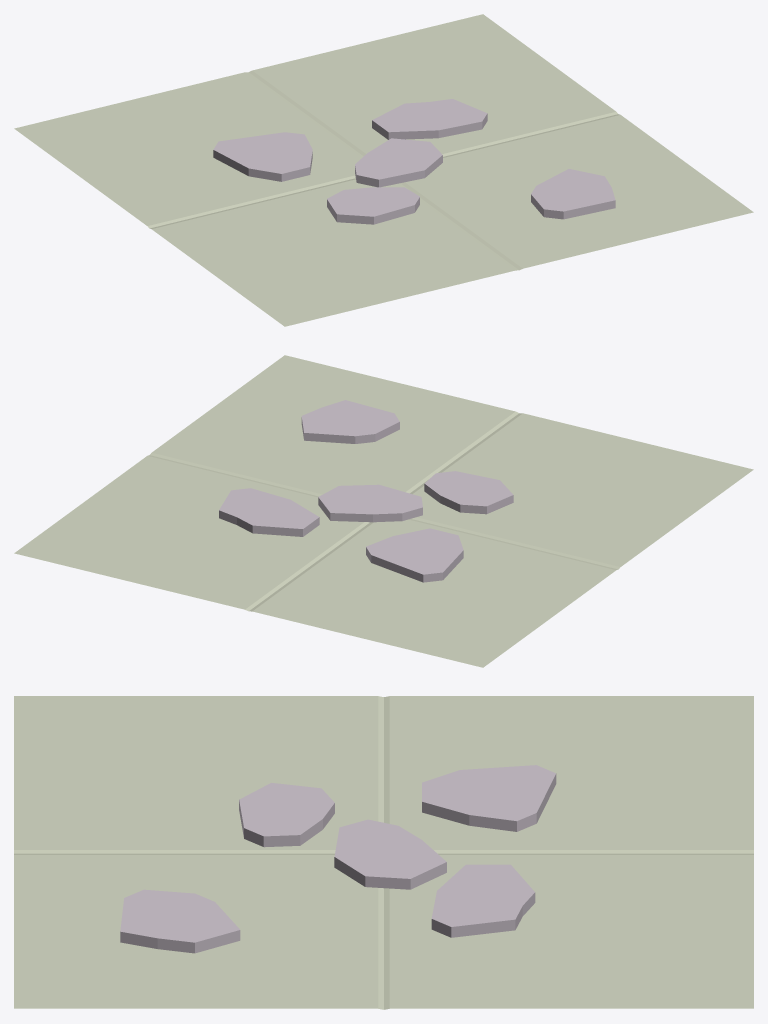
The model's file is SM_SM_Floor_02.003.fbx.
3 views of the same model, one above another, from view 1: azimuth 30°, elevation 25°; view 2: azimuth 150°, elevation 25°; view 3: azimuth 270°, elevation 25° (orthographic). The views are drawn at different scales.
Visible parts, largest first — view 1: SM_Floor_02.003; view 2: SM_Floor_02.003; view 3: SM_Floor_02.003.
Part boxes in pixels (box(x1,y1,x2,y2)): SM_Floor_02.003: box(14, 14, 753, 326); SM_Floor_02.003: box(14, 355, 753, 667); SM_Floor_02.003: box(14, 696, 753, 1009).
Bounding box in the file's own units: 400 × 7.11 × 400.
